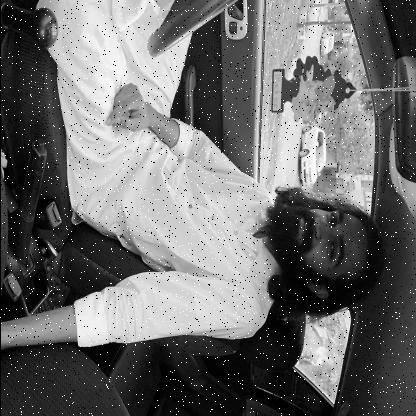no_seatbelt: (123, 177, 387, 318)
